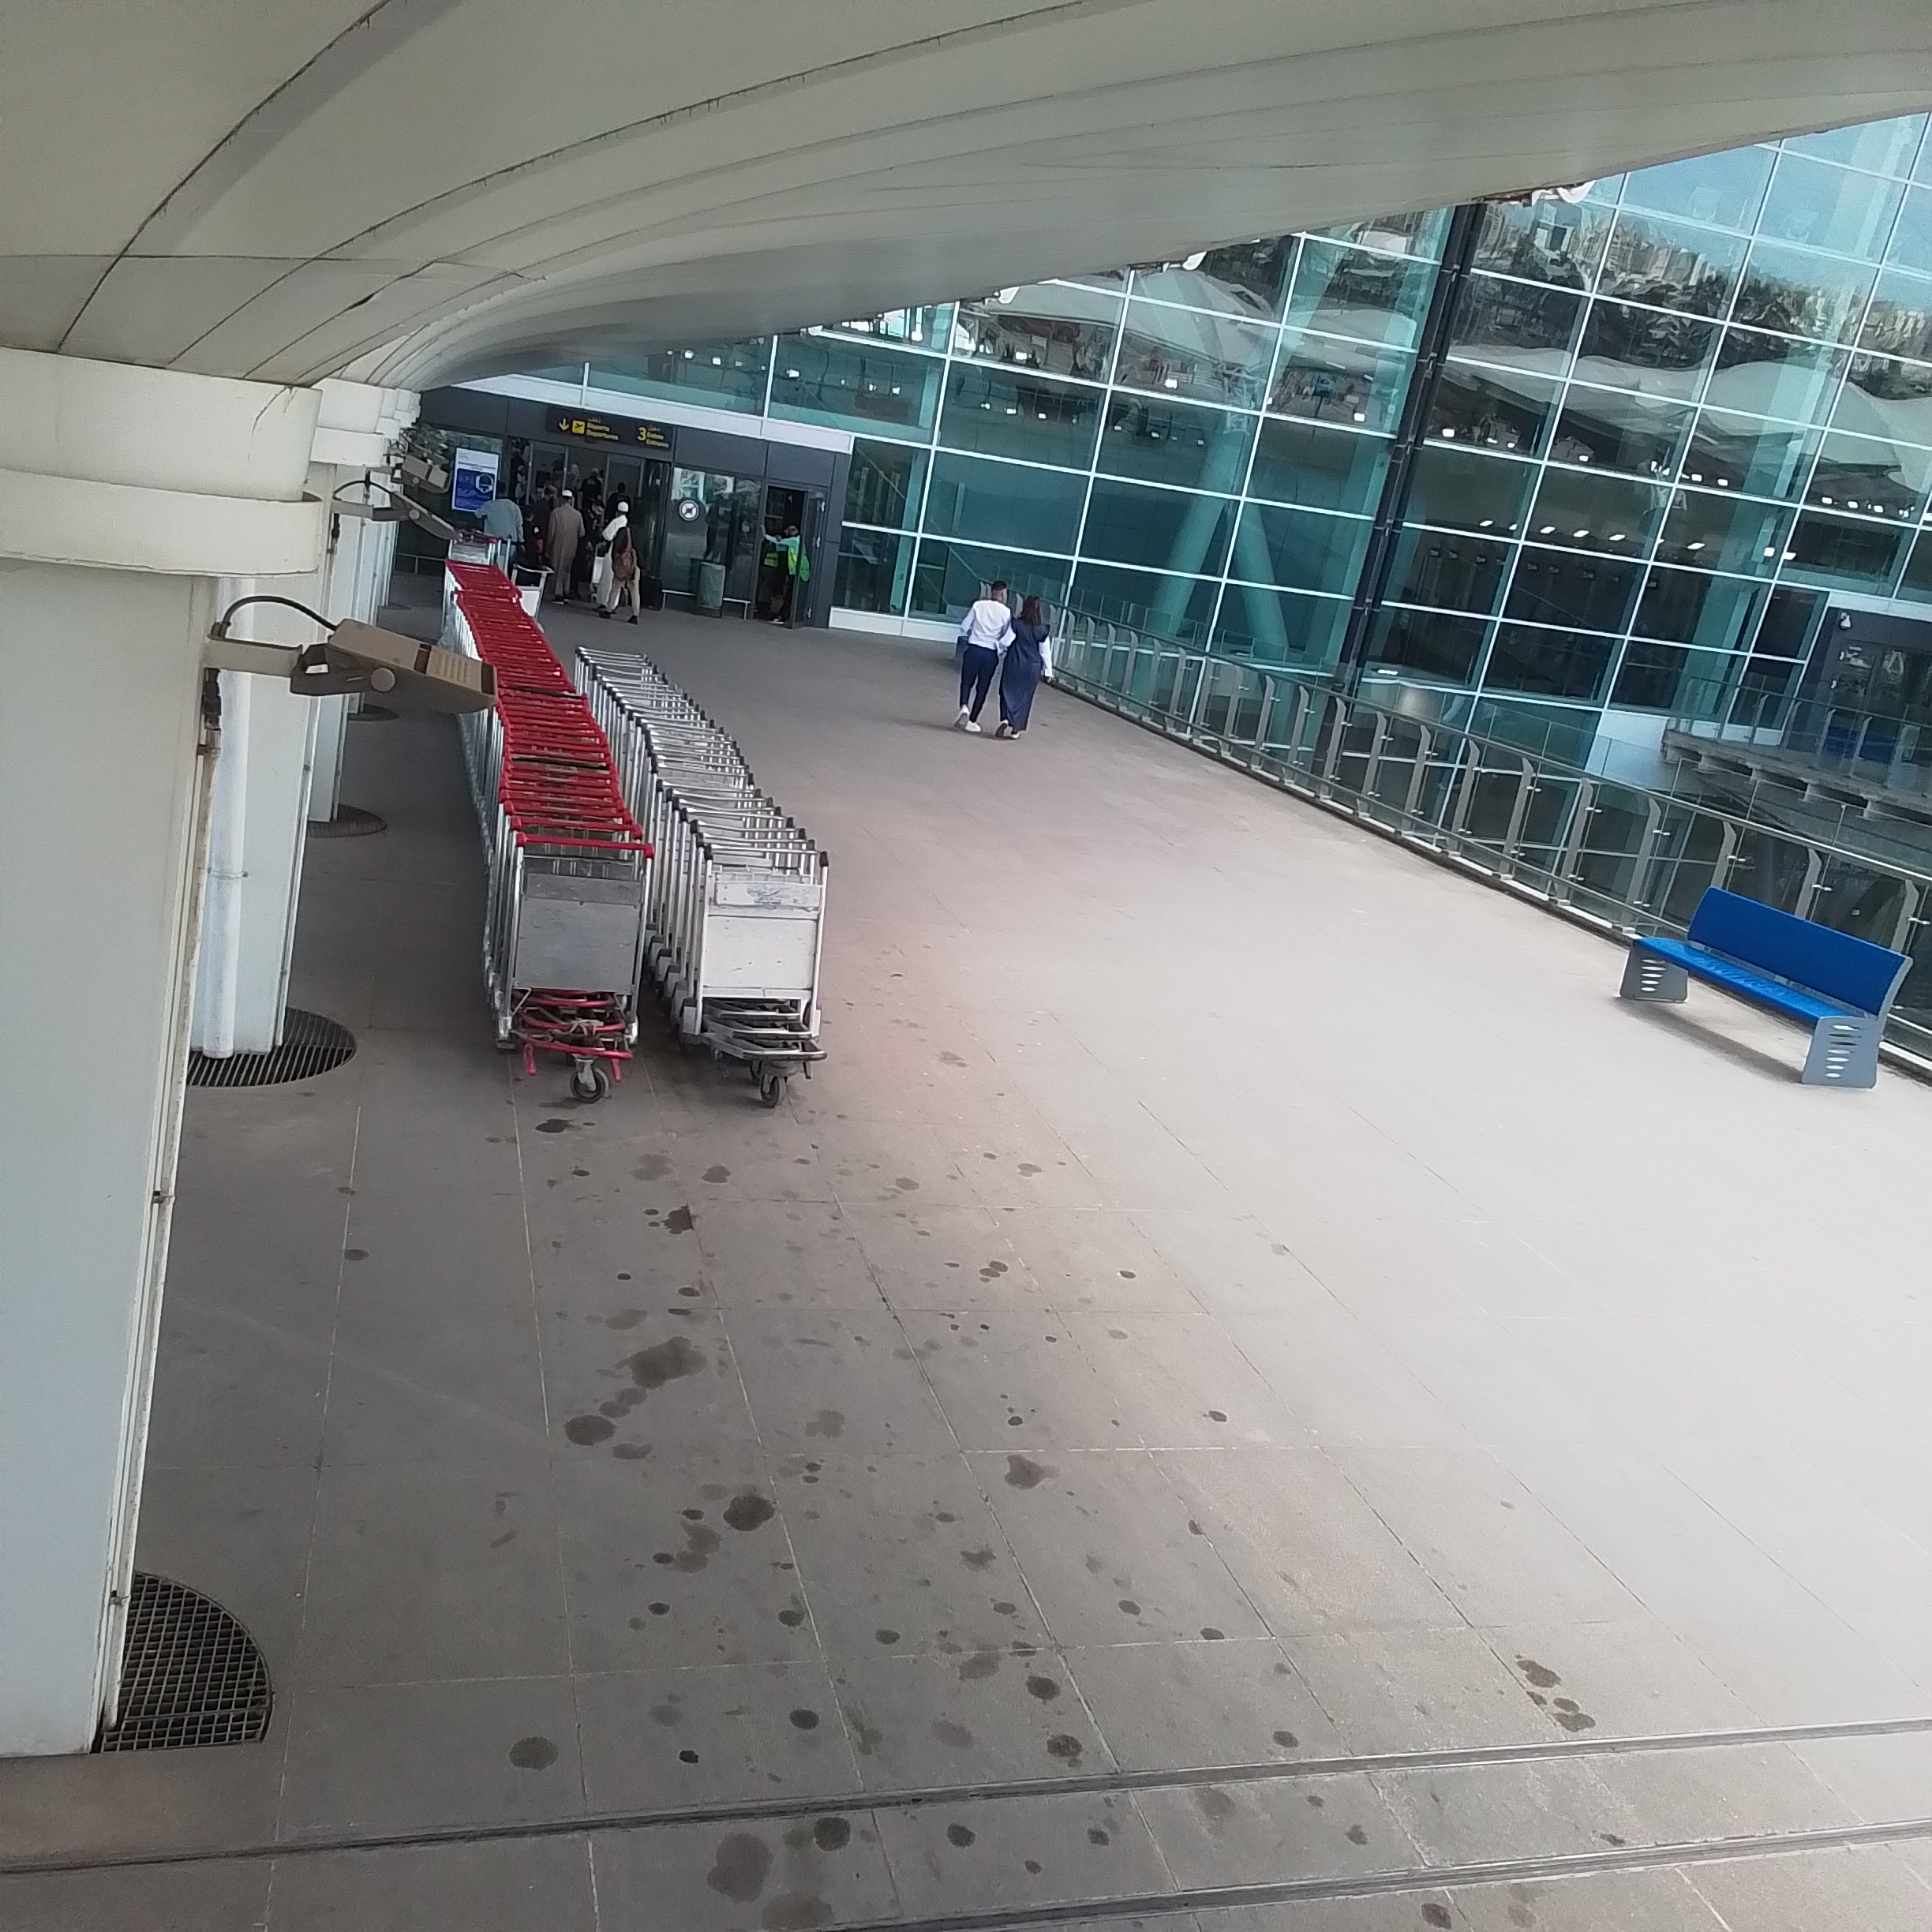airport-trolley: (508, 824, 662, 1104), (704, 837, 833, 1079)
